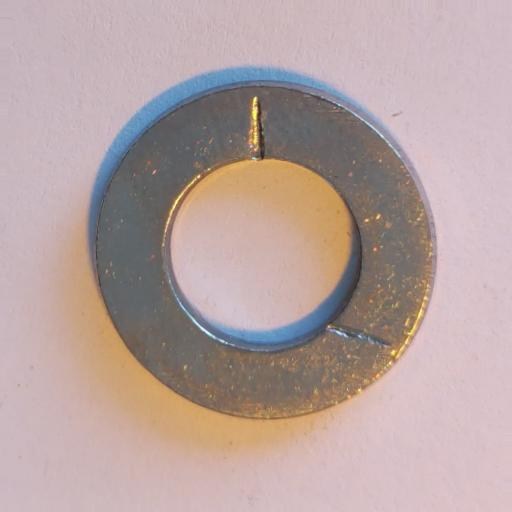scratch: (325, 321, 393, 347), (248, 95, 266, 162)
